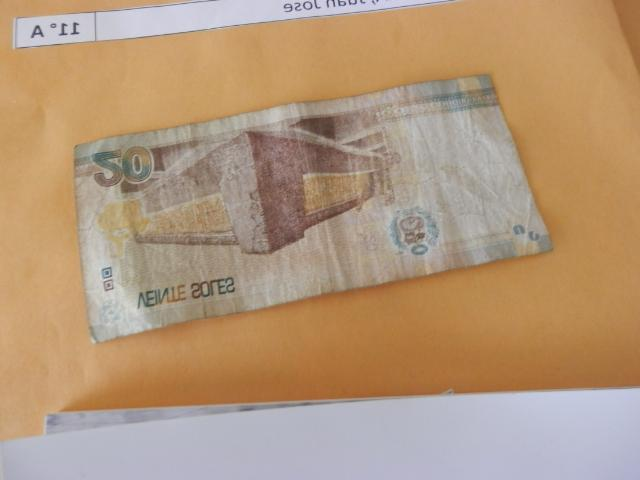B20: (75, 75, 558, 343)
